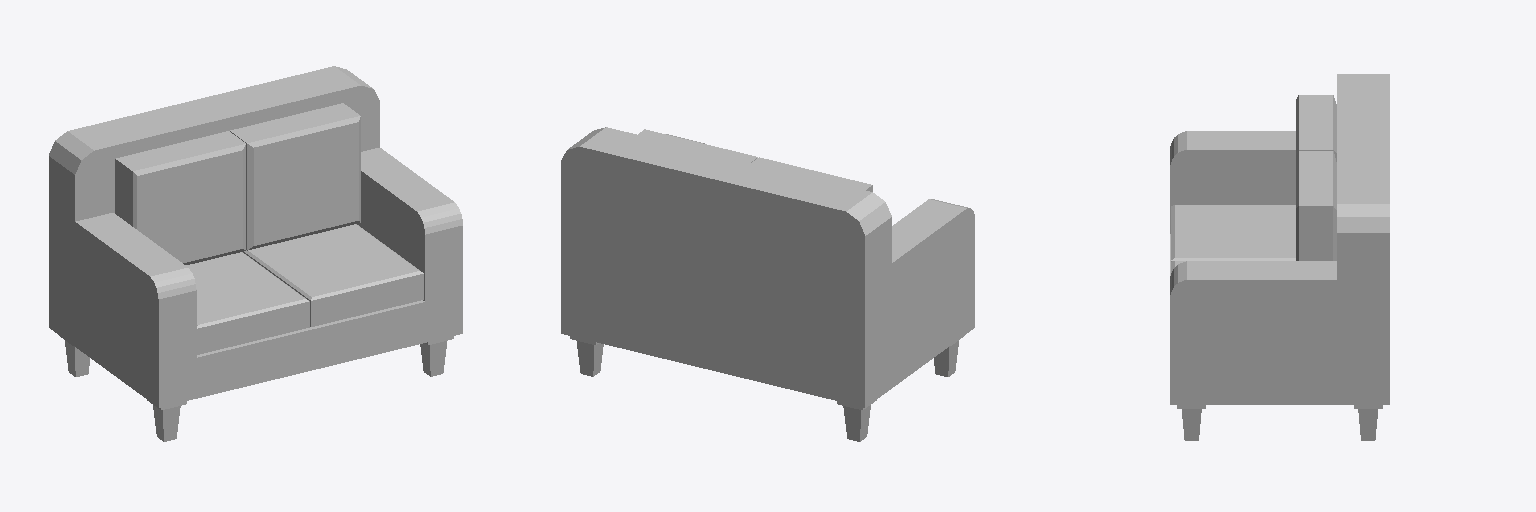
Rendered from Sofa.obj.
3 views of the same model, side by side, from view 1: azimuth 30°, elevation 25°; view 2: azimuth 150°, elevation 25°; view 3: azimuth 270°, elevation 25° (orthographic).
Parts seen in each view (by area): view 1: Cube_Cube.001, Cube.001_Cube.002; view 2: Cube_Cube.001, Cube.001_Cube.002; view 3: Cube_Cube.001, Cube.001_Cube.002.
Boxes of the visible parts, x1,y1,x2,y2 form: Cube_Cube.001: [49, 66, 462, 441]; Cube.001_Cube.002: [342, 86, 379, 149]; Cube_Cube.001: [561, 127, 974, 441]; Cube.001_Cube.002: [561, 147, 712, 362]; Cube_Cube.001: [1170, 74, 1389, 440]; Cube.001_Cube.002: [1170, 218, 1389, 404].
Bounding box in the file's own units: 2.42 × 1.78 × 1.51.